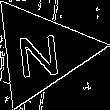N_N: (16, 24, 66, 79)
